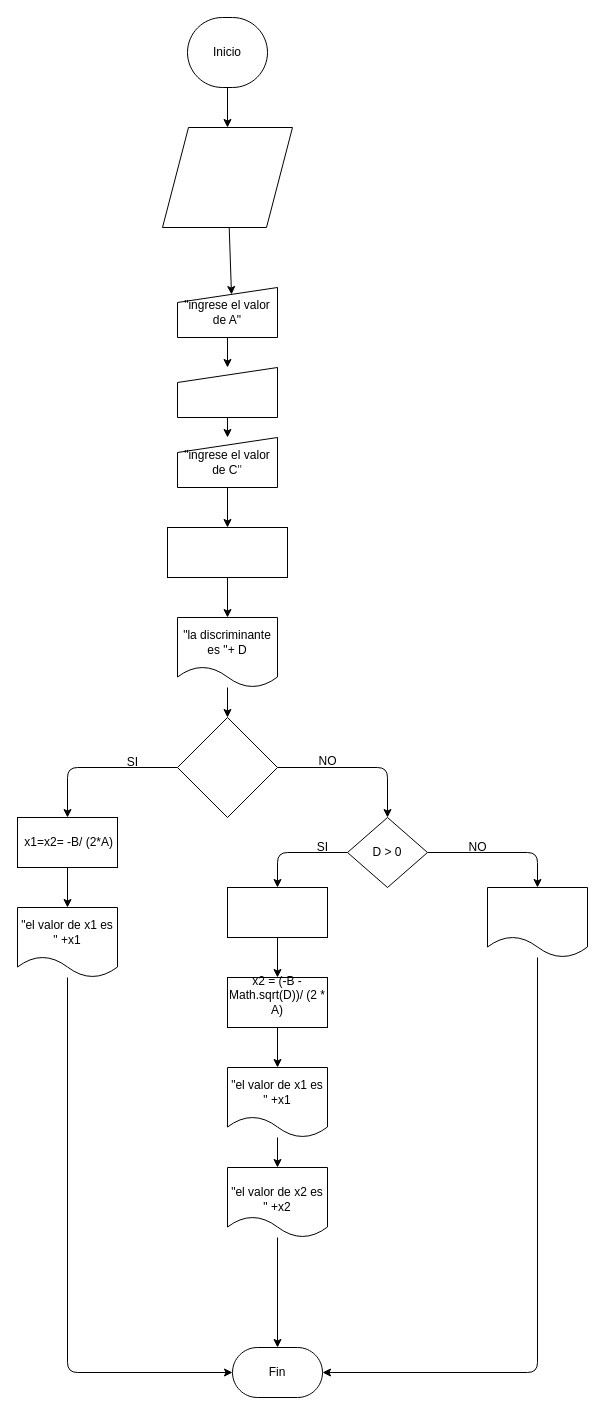
Some shapes in this 605 by 1415 pixel diagram are drawn without their labels. The centre of each missing label's shape, as x and y in pixels:
"ingrese el valor de B ": the point at 227,392
"No existe una solucion real. ": the point at 537,922
A B C D x1 x2: the point at 227,177
D = B * B - 4 * A * C: the point at 227,552
D == 0: the point at 227,767
x1 = (-B + Math.sqrt(D))/ (2 * A): the point at 277,912
